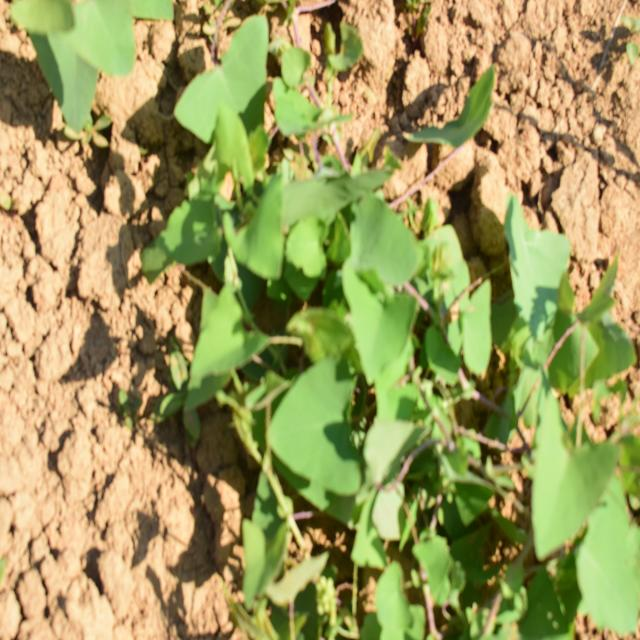Asiatic_Smartweed: (242, 148, 436, 379), (167, 14, 287, 168)
